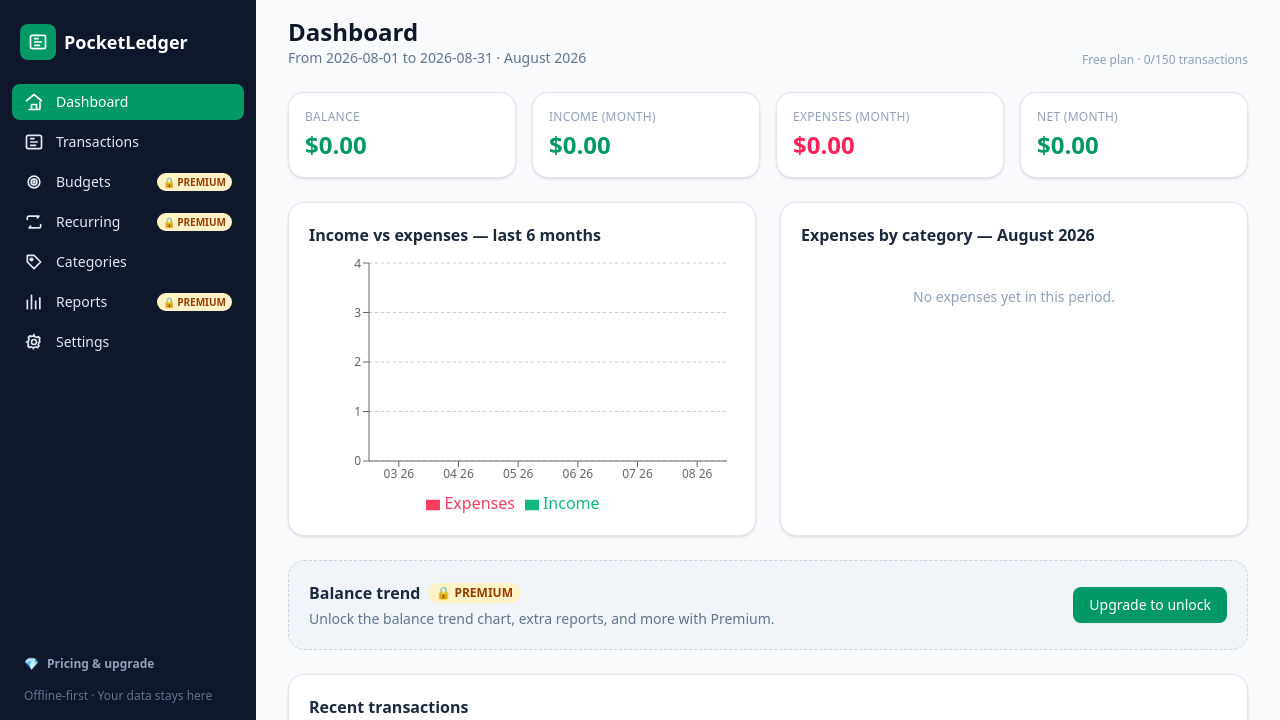
Test case: PocketLedger UI › offers an upgrade modal when a premium feature is clicked
Expected: the heading "Balance trend 🔒 PREMIUM" is shown, left=309, top=582, right=521, bottom=604
Step 1. Click the button "Upgrade to unlock" → (1150, 605), box left=1073, top=587, right=1227, bottom=623
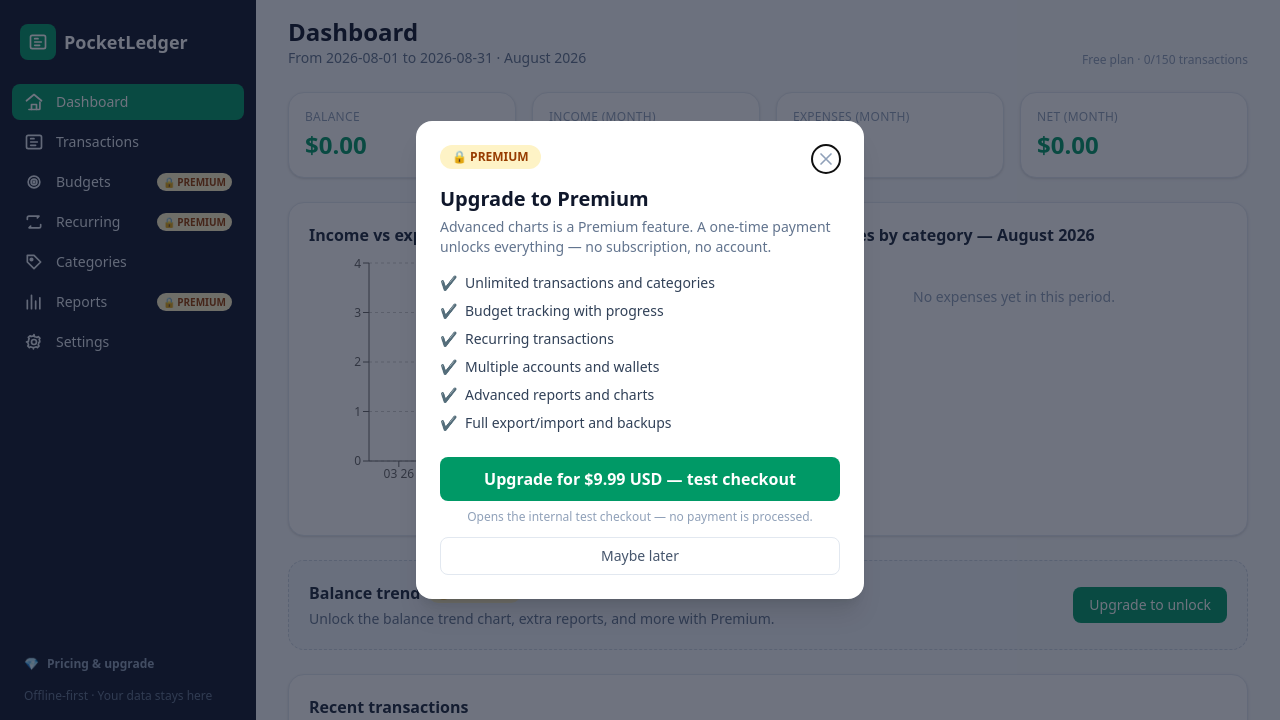
Now the dialog is shown, box left=416, top=121, right=864, bottom=599
Now the heading "Upgrade to Premium" is shown, box left=440, top=185, right=649, bottom=212
